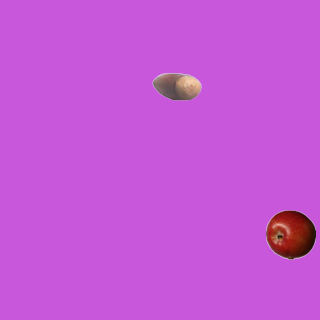Apple Braeburn: (265, 209, 315, 259)
Hazelnut: (151, 61, 201, 111)
